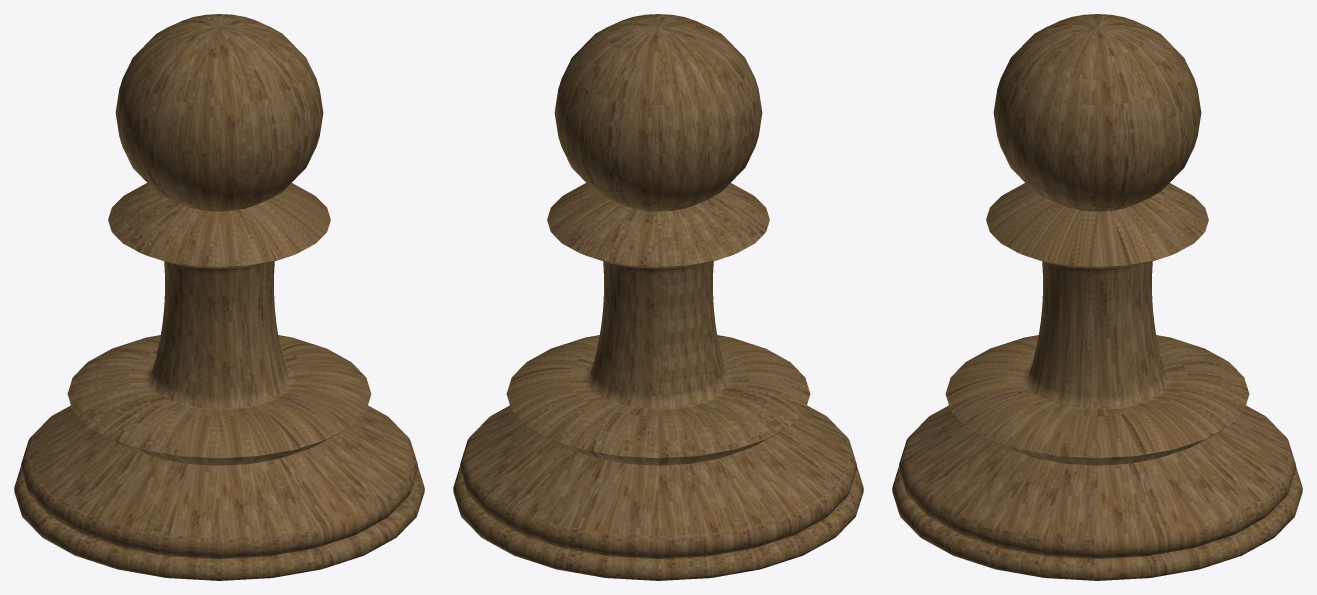
File: pawn.fbx
3 renders of one model, left to right at view 1: azimuth 30°, elevation 25°; view 2: azimuth 150°, elevation 25°; view 3: azimuth 270°, elevation 25°, orthographic.
Visible parts, largest first — view 1: Group1; view 2: Group1; view 3: Group1.
Part boxes in pixels (left/top/right/bottom): Group1: left=14, top=14, right=424, bottom=580; Group1: left=453, top=14, right=863, bottom=580; Group1: left=892, top=14, right=1302, bottom=580.
Size of the model in its own units: 809 by 1016 by 809.
1 material, 1 textured.
